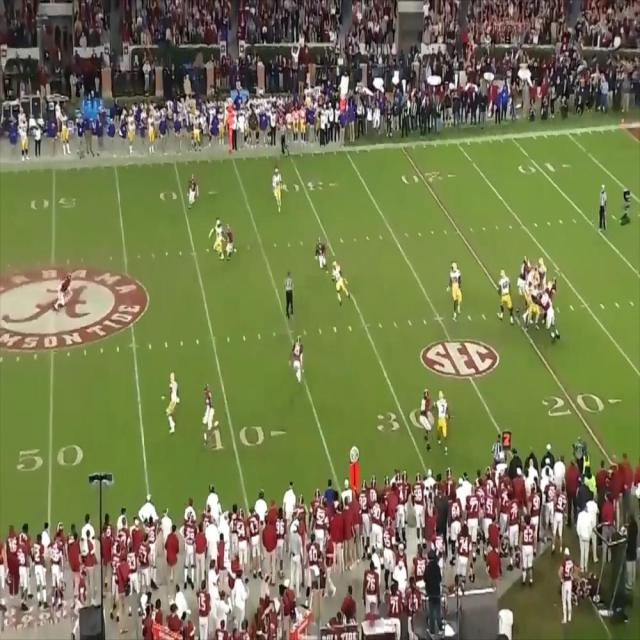db: (202, 381, 215, 442), (56, 273, 72, 311), (293, 338, 302, 382), (316, 237, 327, 266), (190, 174, 199, 203)
lb: (420, 389, 433, 442), (223, 227, 234, 261)
skill: (436, 389, 449, 448), (170, 374, 180, 436), (332, 259, 344, 302), (213, 219, 224, 260), (274, 165, 284, 208)
